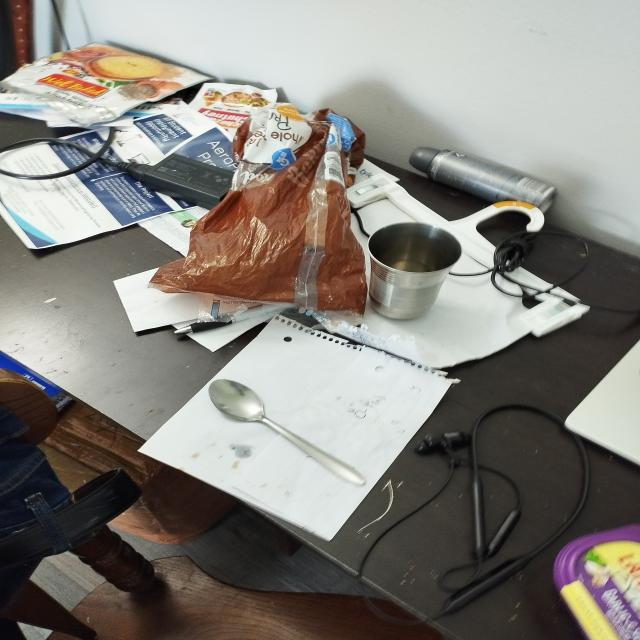Spoon: (188, 372, 382, 501)
